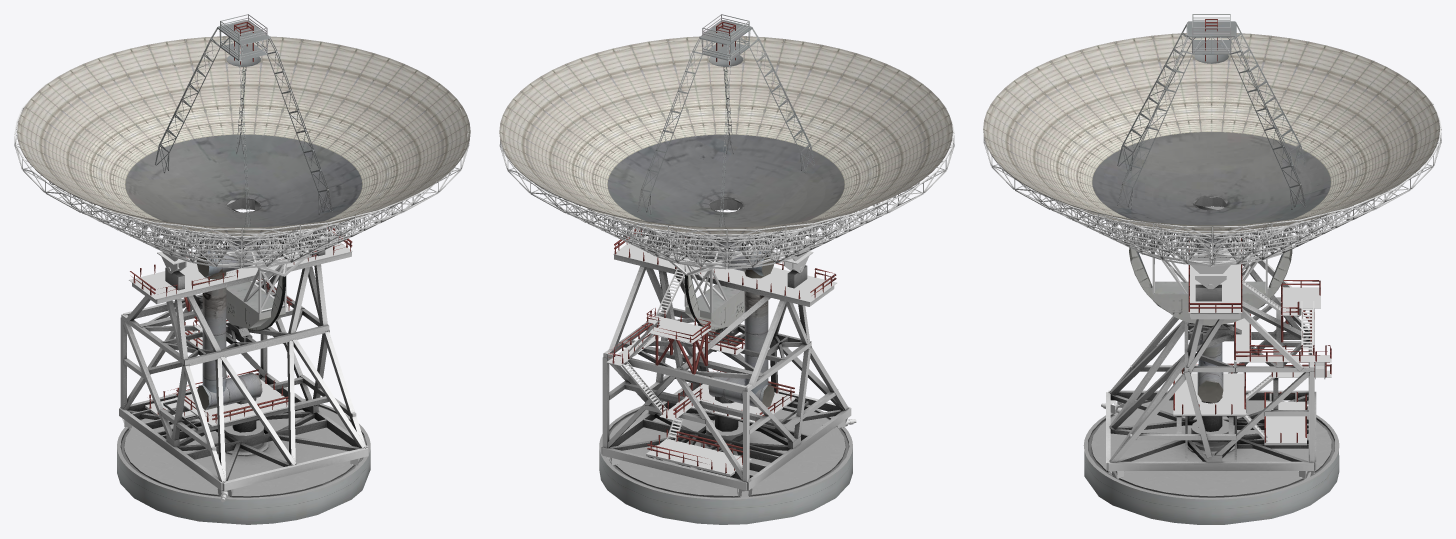
Rendered from nasa_dsn34.glb.
3 views of the same model, side by side, from view 1: azimuth 30°, elevation 25°; view 2: azimuth 150°, elevation 25°; view 3: azimuth 270°, elevation 25° (orthographic).
Visible parts, largest first — view 1: dish, azimuth, dish_center, base, truss_dish, quad, elevation; view 2: dish, azimuth, dish_center, base, truss_dish, quad, elevation; view 3: dish, azimuth, dish_center, base, truss_dish, quad, elevation.
Boxes of the visible parts, x1=… form: dish: x1=17, y1=36, x2=470, y2=235; azimuth: x1=119, y1=227, x2=368, y2=502; dish_center: x1=125, y1=134, x2=362, y2=227; base: x1=117, y1=396, x2=370, y2=524; truss_dish: x1=14, y1=83, x2=469, y2=268; quad: x1=155, y1=14, x2=332, y2=227; elevation: x1=153, y1=210, x2=336, y2=330; dish: x1=499, y1=36, x2=952, y2=235; azimuth: x1=601, y1=227, x2=856, y2=497; dish_center: x1=607, y1=134, x2=844, y2=227; base: x1=599, y1=396, x2=852, y2=524; truss_dish: x1=499, y1=41, x2=954, y2=269; quad: x1=637, y1=14, x2=814, y2=227; elevation: x1=632, y1=228, x2=815, y2=330; dish: x1=983, y1=33, x2=1439, y2=233; azimuth: x1=1101, y1=236, x2=1331, y2=479; dish_center: x1=1092, y1=132, x2=1330, y2=225; base: x1=1083, y1=400, x2=1339, y2=524; truss_dish: x1=983, y1=60, x2=1441, y2=265; quad: x1=1117, y1=14, x2=1305, y2=209; elevation: x1=1113, y1=206, x2=1309, y2=325.
Size of the model in its own units: 34.02 by 36.79 by 33.97.
Materials: 6 (5 with a texture image).
